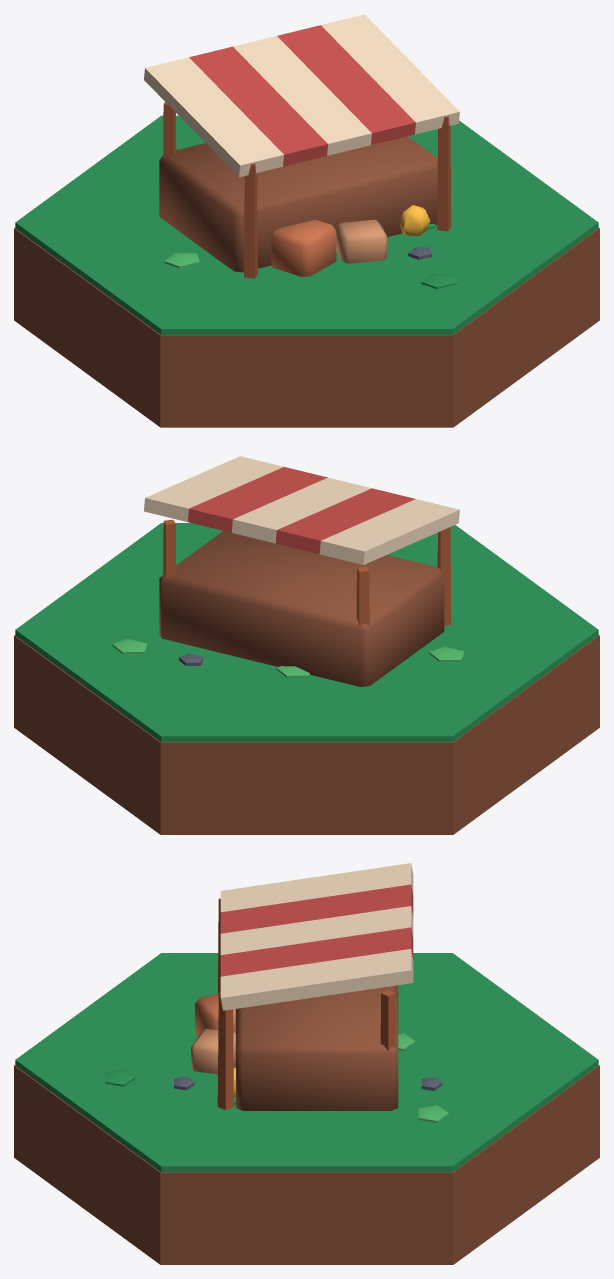
File: building-market.glb
3 views of the same model, one above another, from view 1: azimuth 30°, elevation 25°; view 2: azimuth 150°, elevation 25°; view 3: azimuth 270°, elevation 25° (orthographic).
Parts seen in each view (by area): view 1: building_market; view 2: building_market; view 3: building_market.
Part boxes in pixels (x1,y1,x2,y2): building_market: [14, 14, 599, 427]; building_market: [14, 456, 599, 834]; building_market: [14, 863, 599, 1264].
Size of the model in its own units: 1 by 0.5241 by 1.15.
Materials: 1 (1 with a texture image).
